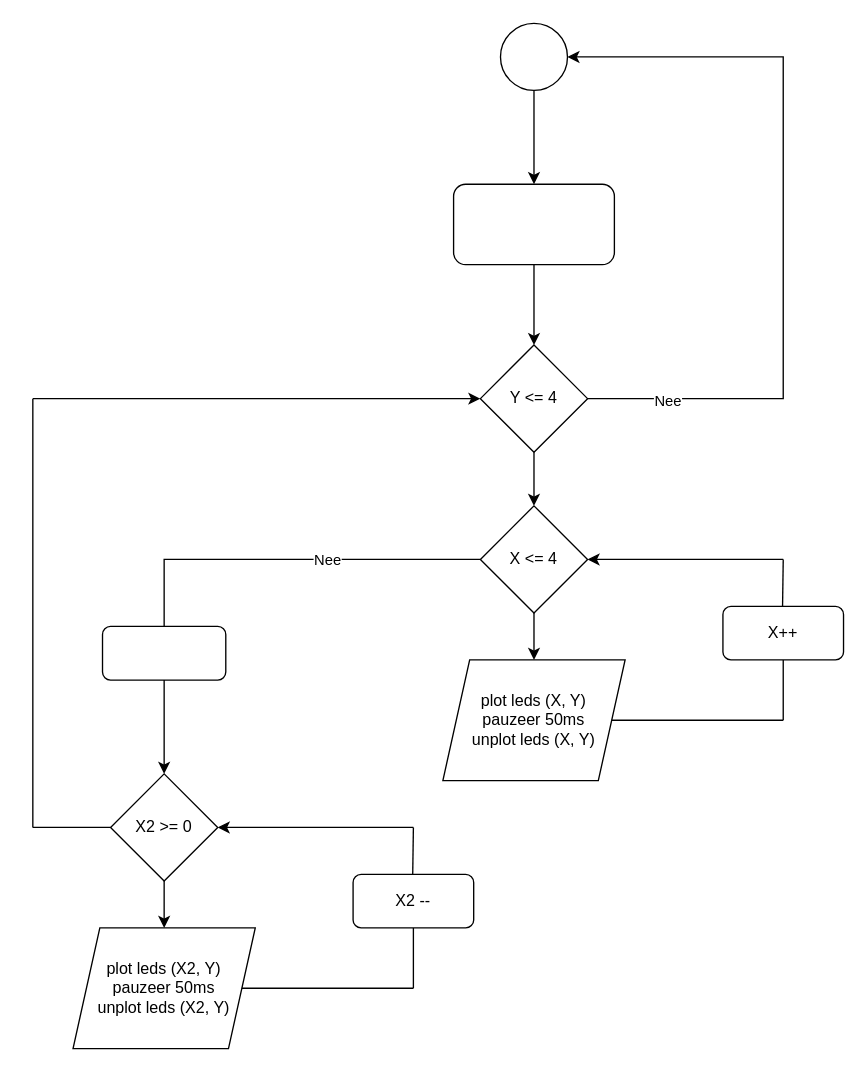
Image size: 867x1072. Some labels were removed from this diagram. The box of each missing label's shape, as (x1, y1, x2, y2) in pixels:
start: (499, 22, 567, 90)
X = 0 Y = 0 X2 = 0: (452, 183, 614, 265)
Y + 1: (101, 625, 226, 680)
